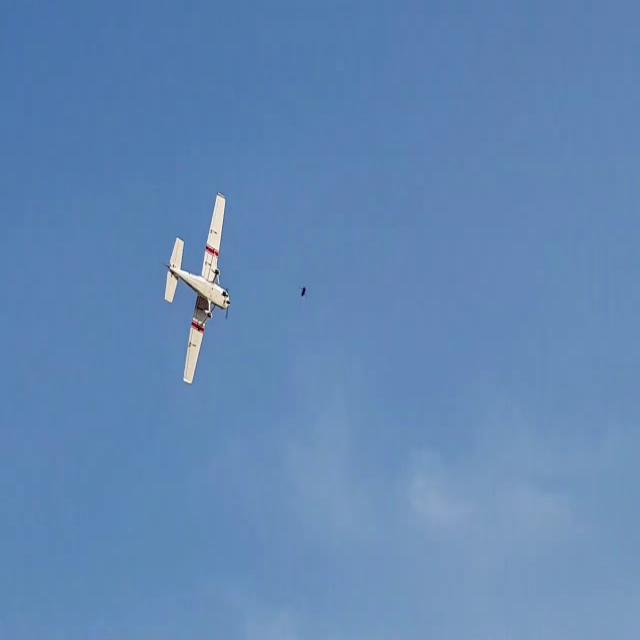iha: (194, 196, 198, 390)
